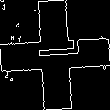L_W: (29, 38, 81, 72)
